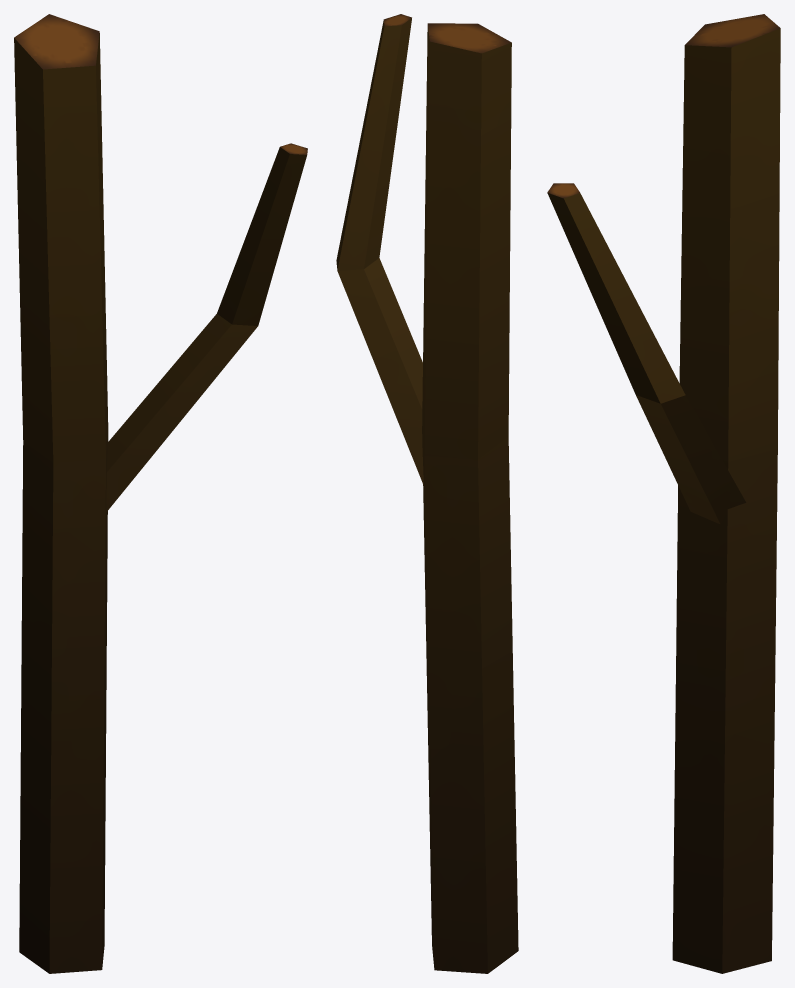
The model's file is Stick_C.fbx.
The picture shows the model from 3 angles, left to right: view 1: azimuth 30°, elevation 25°; view 2: azimuth 150°, elevation 25°; view 3: azimuth 270°, elevation 25°; orthographic projection.
Visible parts, largest first — view 1: Stick_C; view 2: Stick_C; view 3: Stick_C.
Part boxes in pixels (x1,y1,x2,y2): Stick_C: (14,14,307,973); Stick_C: (336,14,518,973); Stick_C: (547,14,780,973).
Bounding box in the file's own units: 13.67 × 61.28 × 13.9.
